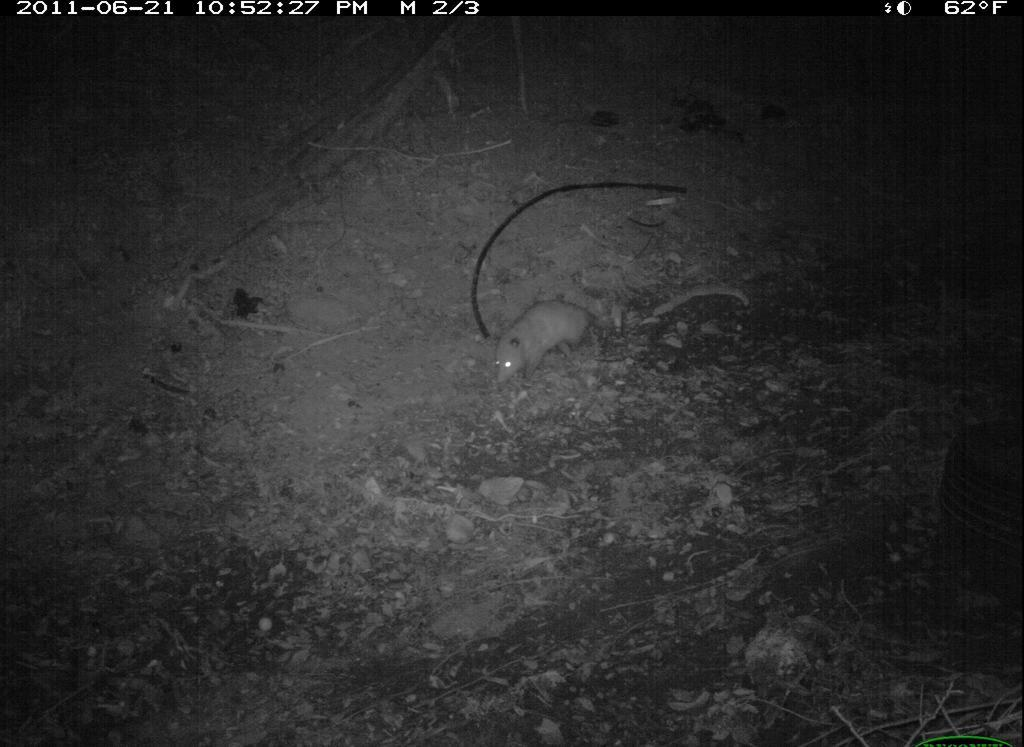opossum: (482, 286, 619, 397)
